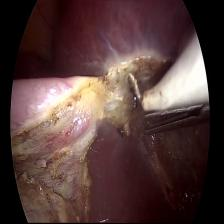Grasper: (142, 108, 208, 141)
Hook: (124, 33, 204, 112)
